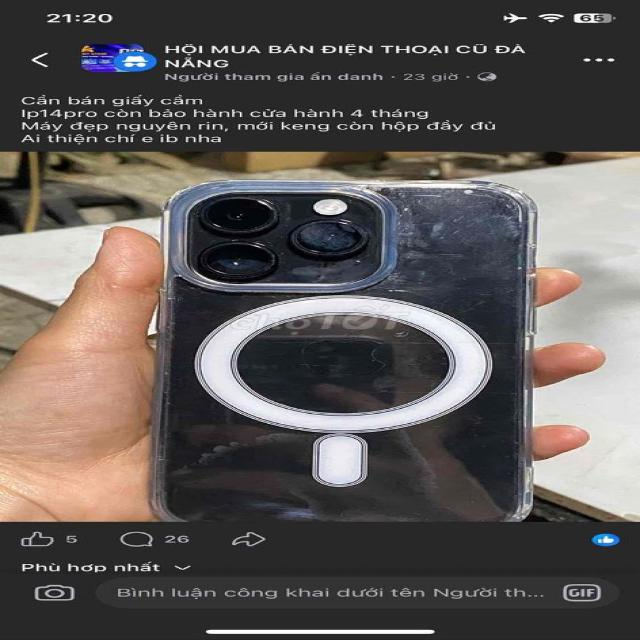gen_14: (127, 168, 554, 528)
